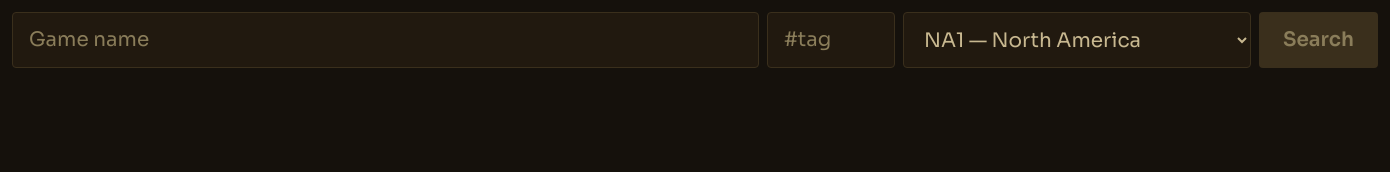
Test: <SearchBar /> › enables Search when both game name and tag line are filled
Type "Faker" into the dropdown labelled "Game name" at (385, 40), box [12,12,759,68]
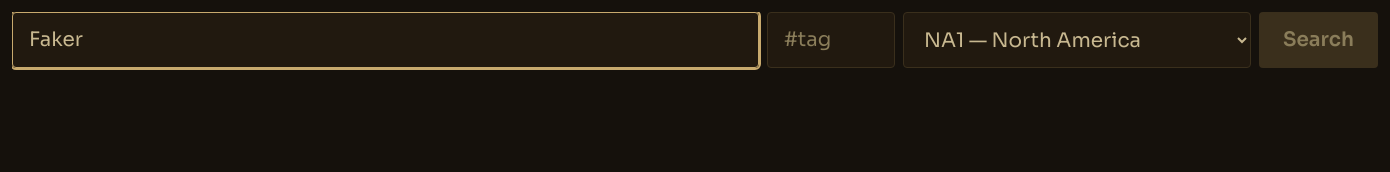
Type "420" into the field named "Tag line" at (831, 40), box [767,12,895,68]
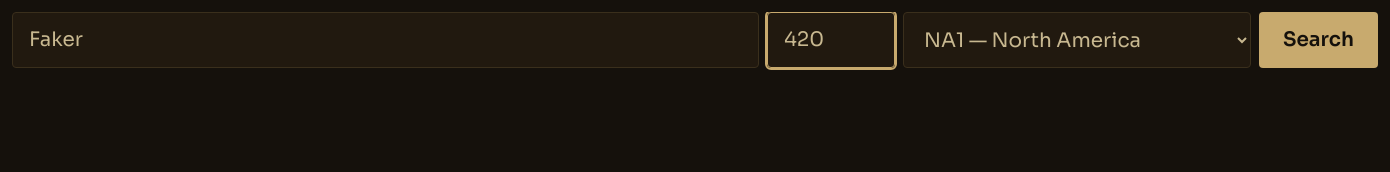
Now the button "Search" is enabled, box [1259,12,1378,68]
